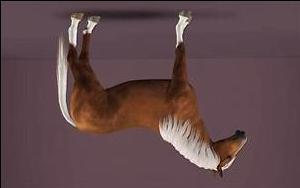horse: (54, 9, 247, 179)
